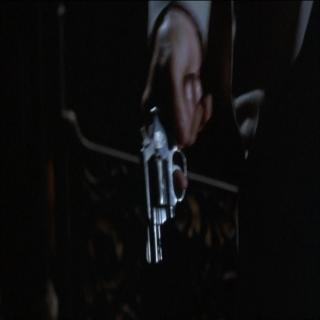gun: (129, 32, 214, 270)
